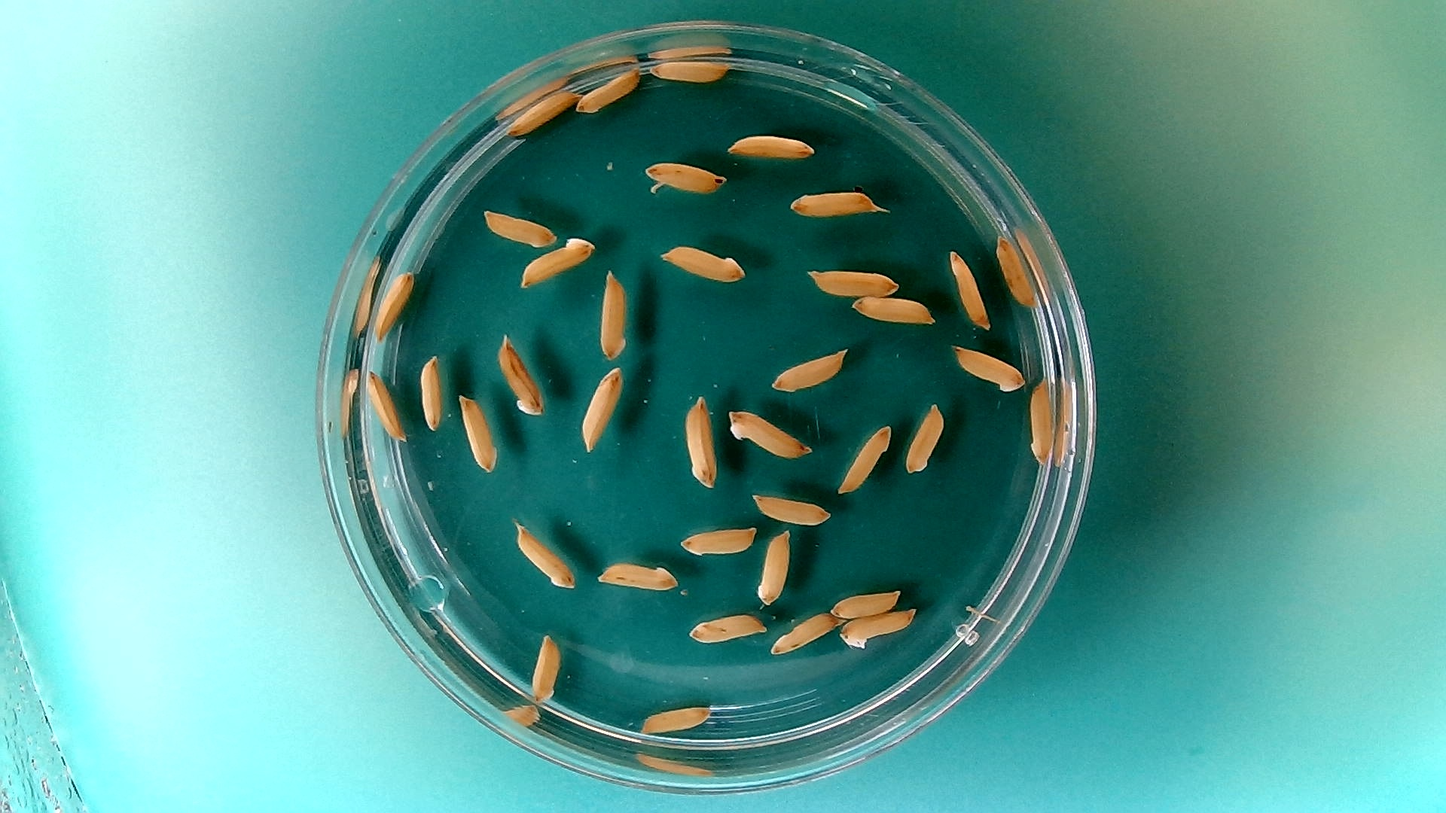no: (723, 405, 814, 459), (511, 519, 578, 589), (496, 333, 547, 419), (577, 364, 626, 453), (517, 234, 596, 288), (836, 421, 892, 495), (655, 240, 748, 282), (950, 344, 1025, 394), (504, 87, 580, 136), (681, 392, 719, 490), (947, 247, 991, 330), (370, 267, 416, 345), (769, 347, 848, 392), (456, 391, 499, 473), (575, 63, 643, 114), (642, 157, 728, 197), (992, 233, 1037, 309), (840, 605, 918, 648), (903, 400, 946, 476), (753, 525, 792, 608), (364, 368, 407, 443), (769, 611, 839, 656), (724, 129, 819, 162), (806, 264, 901, 297), (481, 208, 558, 248), (597, 268, 630, 360), (850, 292, 936, 327), (596, 557, 681, 592), (685, 609, 769, 644), (750, 491, 831, 527), (677, 523, 758, 557), (527, 629, 562, 705), (1026, 376, 1055, 467), (638, 701, 713, 735), (648, 54, 732, 84), (831, 588, 902, 620), (417, 351, 444, 433)
